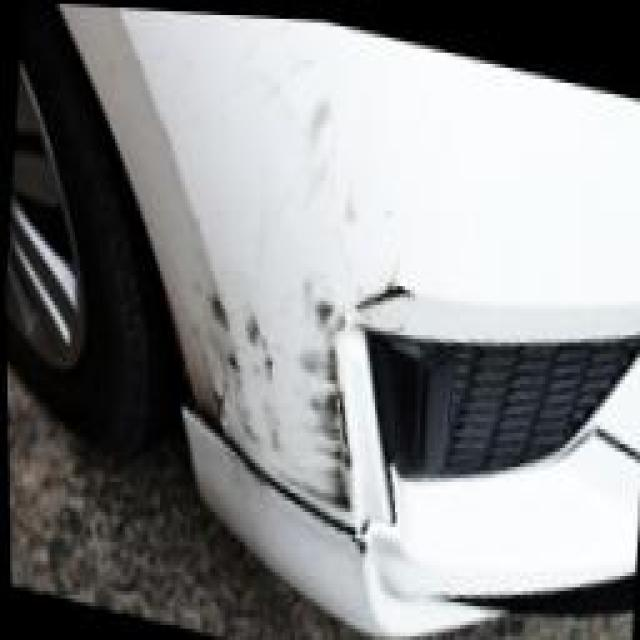Bumper: (168, 120, 442, 613)
